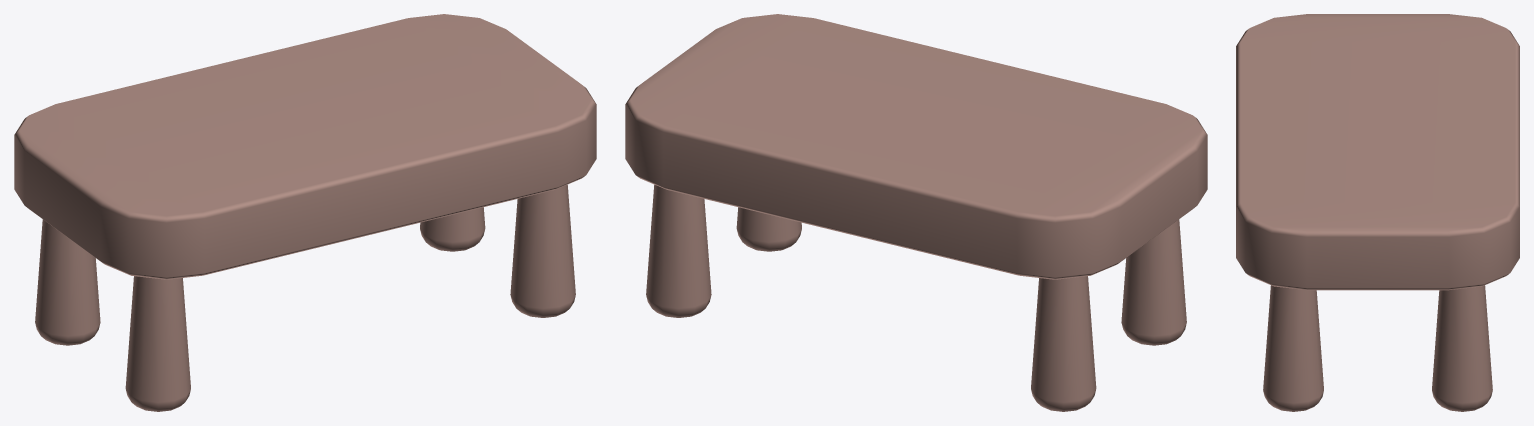
Rendered from Farm_1_Bench_1.glb.
The picture shows the model from 3 angles, left to right: view 1: azimuth 30°, elevation 25°; view 2: azimuth 150°, elevation 25°; view 3: azimuth 270°, elevation 25°; orthographic projection. The views are drawn at different scales.
Visible parts, largest first — view 1: Farm_1_Bench_1; view 2: Farm_1_Bench_1; view 3: Farm_1_Bench_1.
Part boxes in pixels (x1=…): Farm_1_Bench_1: x1=14, y1=14, x2=596, y2=411; Farm_1_Bench_1: x1=625, y1=14, x2=1207, y2=411; Farm_1_Bench_1: x1=1236, y1=14, x2=1519, y2=411.
Size of the model in its own units: 1.33 by 0.5435 by 0.7207.
Materials: 1 (1 with a texture image).
